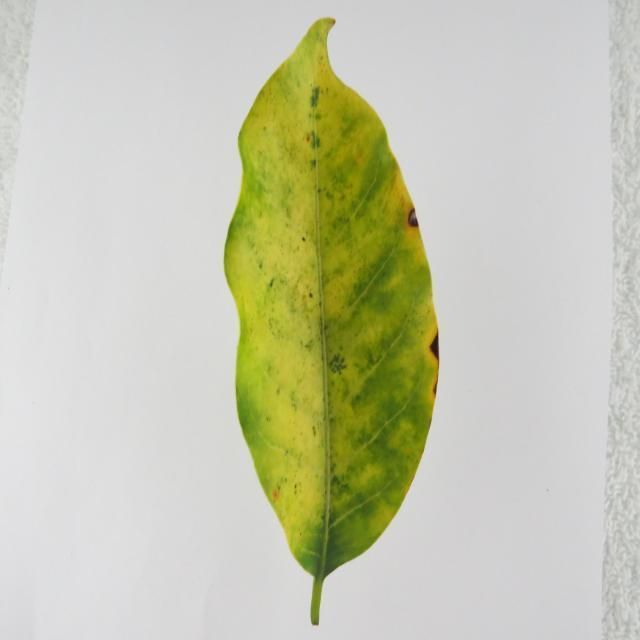DeficienciaNutricional-Nitrogeno: (225, 18, 439, 625)
